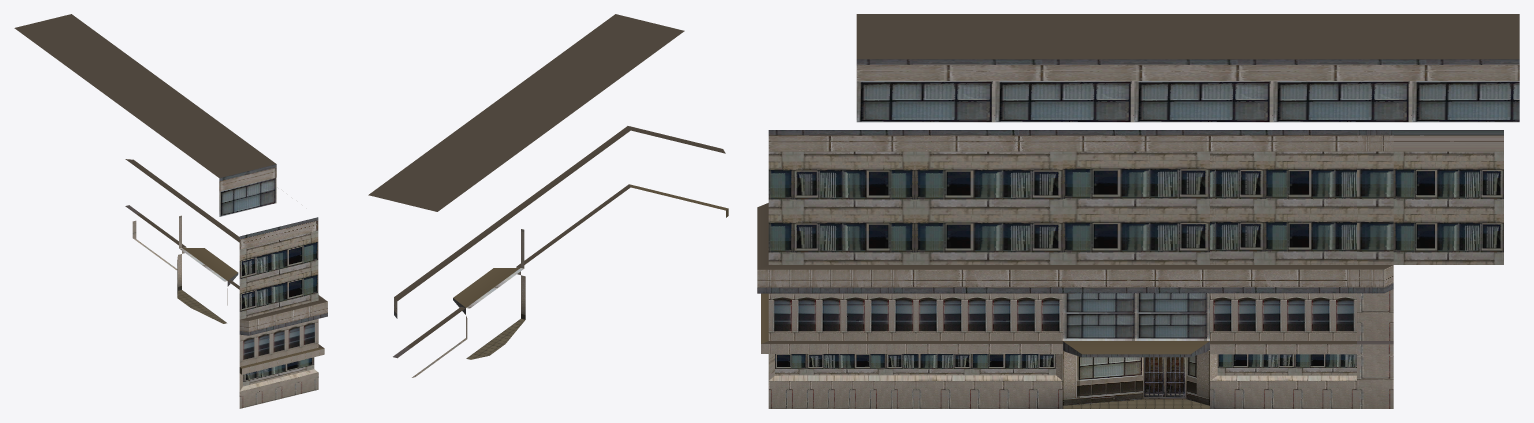
The model's file is M2Zone3_TBlock1.glb.
3 views of the same model, side by side, from view 1: azimuth 30°, elevation 25°; view 2: azimuth 150°, elevation 25°; view 3: azimuth 270°, elevation 25° (orthographic). The views are drawn at different scales.
Visible parts, largest first — view 1: M2ZONE3_TBLOCK1; view 2: M2ZONE3_TBLOCK1; view 3: M2ZONE3_TBLOCK1.
Part boxes in pixels (x1,y1,x2,y2): M2ZONE3_TBLOCK1: (14, 14, 327, 408); M2ZONE3_TBLOCK1: (368, 14, 728, 377); M2ZONE3_TBLOCK1: (757, 14, 1519, 408).
Bounding box in the file's own units: 9.72 × 20.3 × 41.45.
8 materials, 8 textured.
